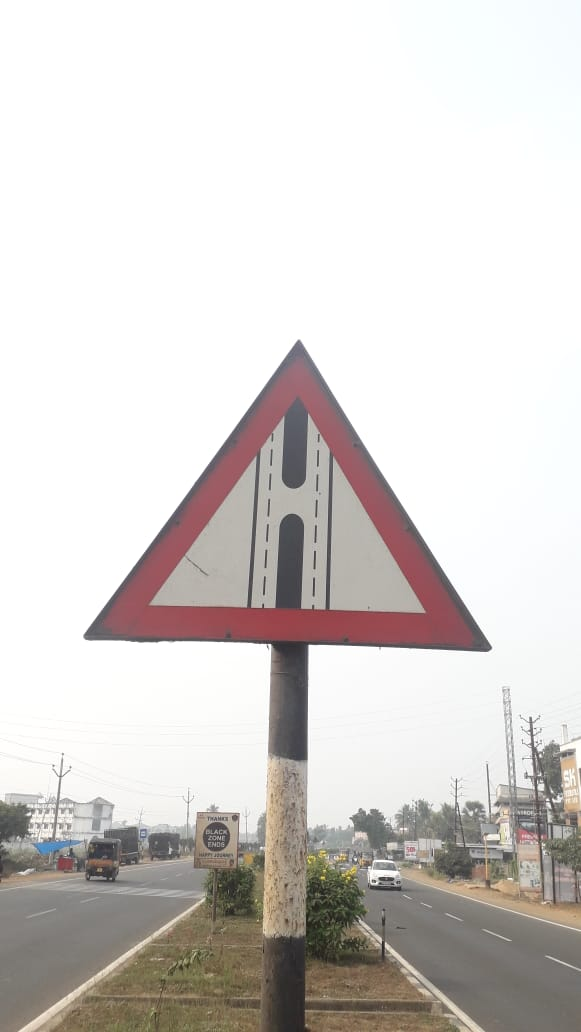highway go straight: (69, 317, 504, 692)
